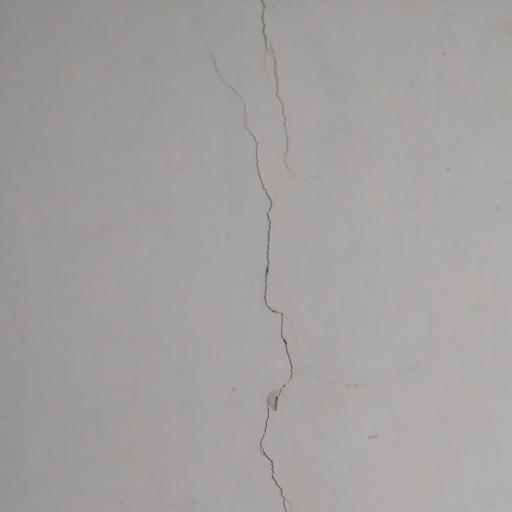major_crack: (186, 0, 297, 512)
